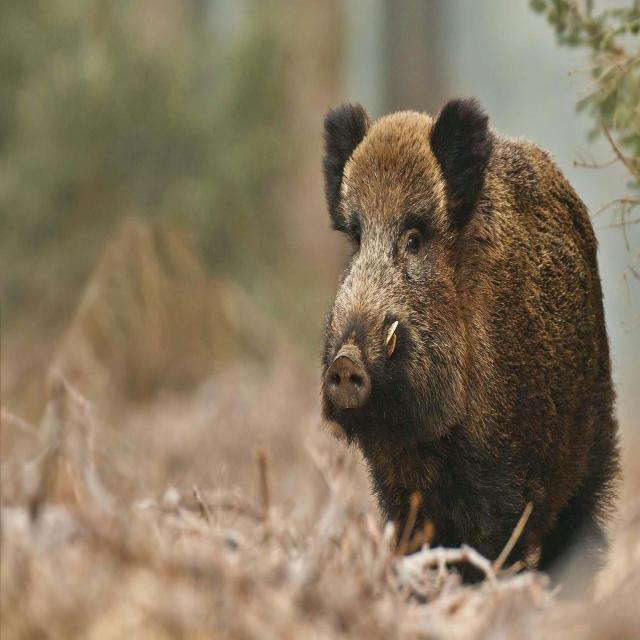Boar: (323, 103, 619, 563)
